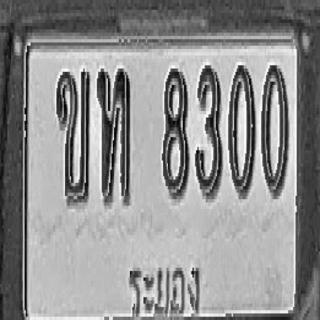A02: (56, 67, 90, 204)
A23: (97, 67, 130, 204)
N00: (228, 60, 255, 198), (261, 62, 288, 196)
N03: (195, 62, 222, 199)
N08: (162, 65, 189, 199)
P53: (125, 248, 204, 320)
